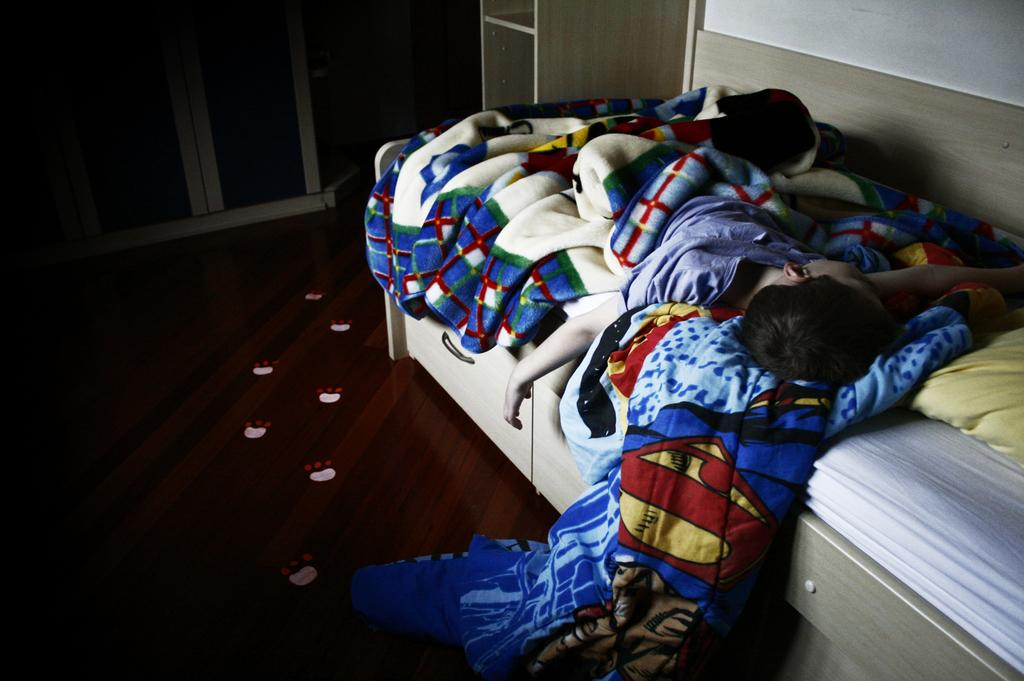Sem Máscara: (806, 259, 878, 306)
